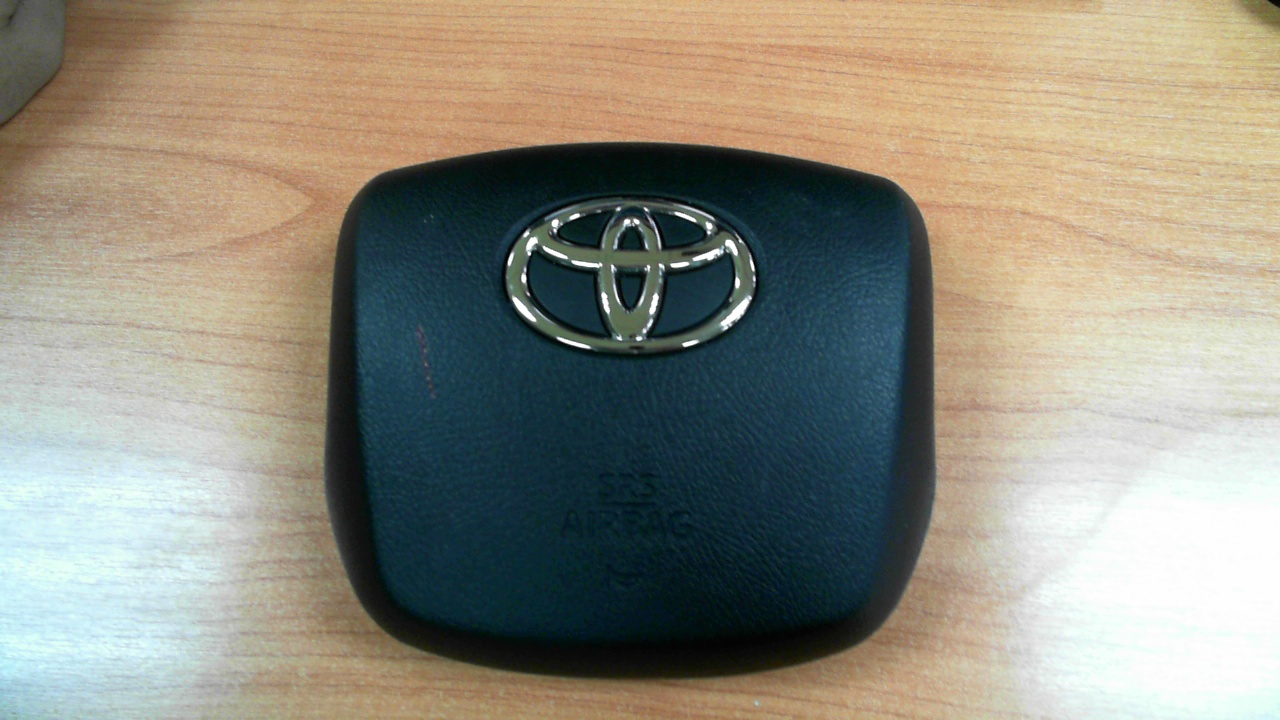Airbag: (331, 145, 936, 673)
Toyota: (505, 196, 757, 355)
